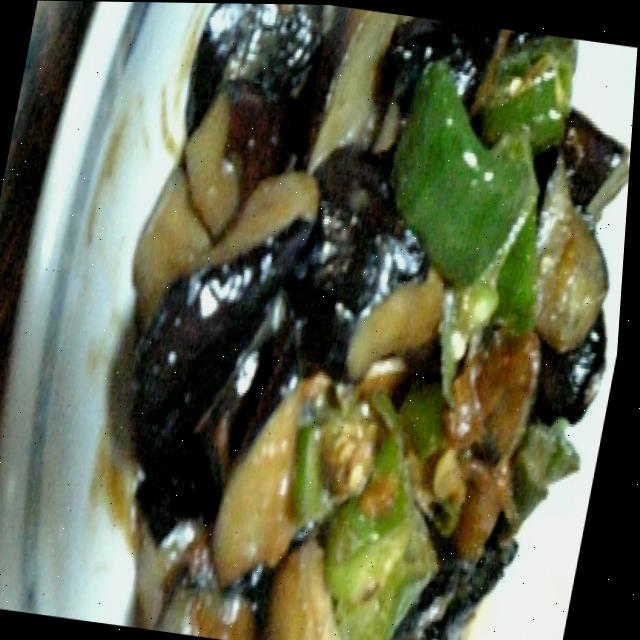鸡蛋料理: (66, 1, 640, 640)
